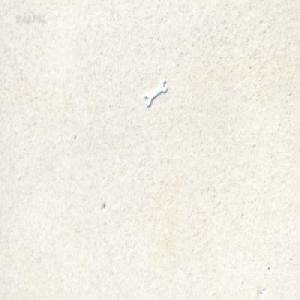Wrench: (144, 77, 168, 107)
